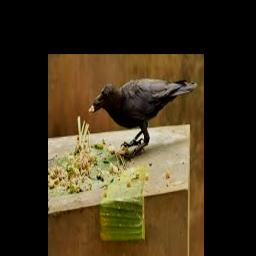Crow: (91, 78, 198, 152)
